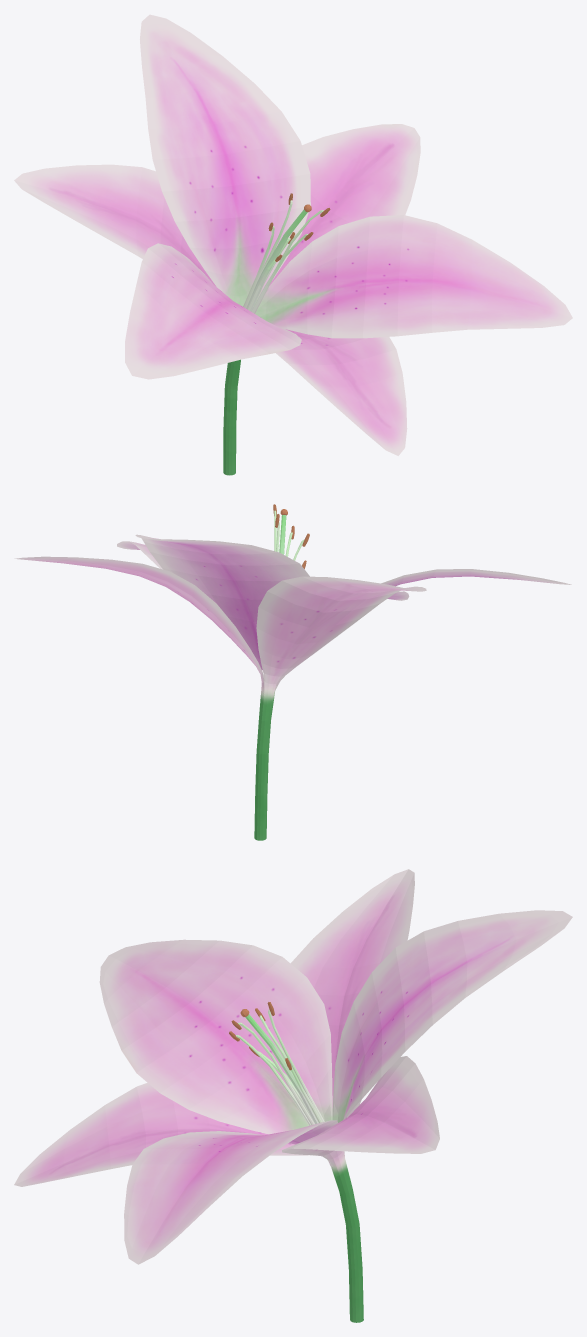
Rendered from pink_lilly_small.glb.
3 renders of one model, top to bottom at view 1: azimuth 30°, elevation 25°; view 2: azimuth 150°, elevation 25°; view 3: azimuth 270°, elevation 25°, orthographic. The views are drawn at different scales.
Visible parts, largest first — view 1: Circle.008; view 2: Circle.008; view 3: Circle.008.
Boxes of the visible parts, left/top/right/bottom form: Circle.008: left=14, top=14, right=572, bottom=475; Circle.008: left=14, top=504, right=571, bottom=840; Circle.008: left=14, top=869, right=572, bottom=1322.
Bounding box in the file's own units: 3.58 × 2.86 × 3.51.
1 material, 1 textured.
